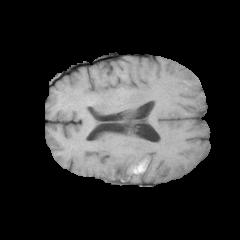glioma: (83, 139, 148, 182)
